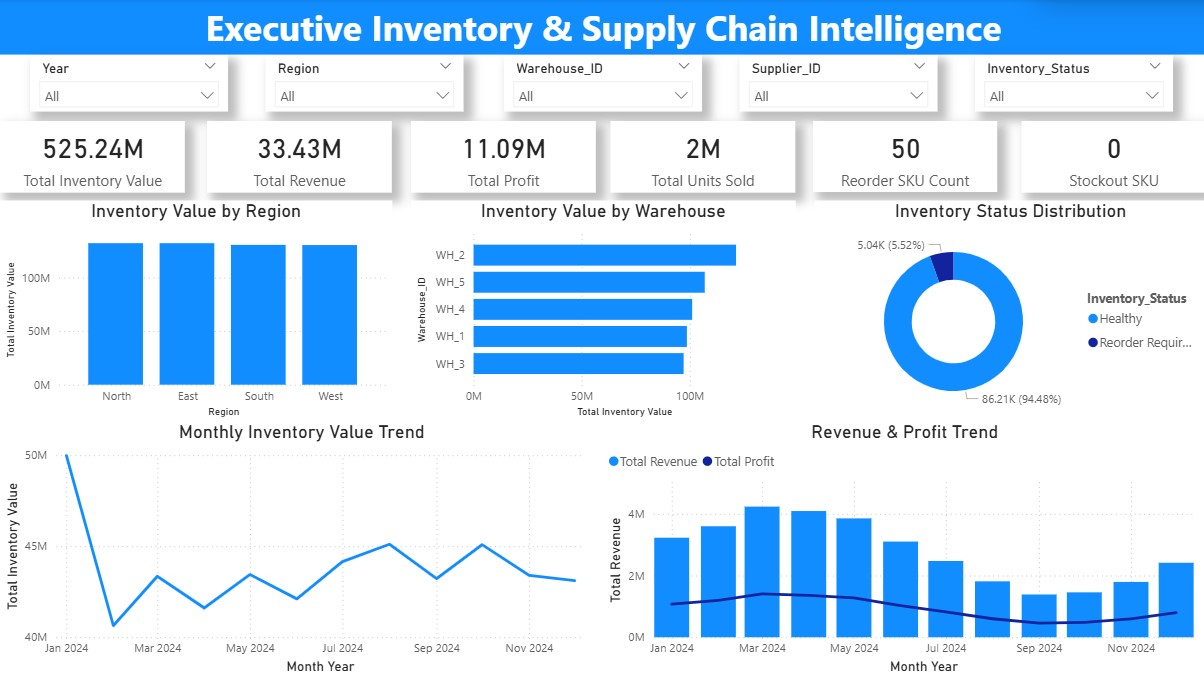

The page's visual inventory and layout, read from the dashboard file:
{"tool":"powerbi","page":{"name":"Excusive Overview ","canvas":[1280,720],"ordinal":0},"visuals":[{"type":"textbox","box":[0,0,1280,60],"z":0},{"type":"slicer","fields":{"Values":["DateTable.Year"]},"box":[32,60,210,60],"z":1000},{"type":"slicer","fields":{"Values":["InventoryData.Region"]},"box":[282,60,210,60],"z":2000},{"type":"slicer","fields":{"Values":["InventoryData.Warehouse_ID"]},"box":[534,60,210,60],"z":3000},{"type":"slicer","fields":{"Values":["InventoryData.Supplier_ID"]},"box":[784,60,210,60],"z":4000},{"type":"slicer","fields":{"Values":["InventoryData.Inventory_Status"]},"box":[1034,60,210,60],"z":5000},{"type":"card","fields":{"Values":["InventoryData.Total Inventory Value"]},"box":[0,130,196,76],"z":6000},{"type":"card","fields":{"Values":["InventoryData.Total Revenue"]},"box":[220,130,196,76],"z":7000},{"type":"card","fields":{"Values":["InventoryData.Total Profit"]},"box":[436,130,196,76],"z":8000},{"type":"card","fields":{"Values":["InventoryData.Total Units Sold"]},"box":[648,130,196,76],"z":9000},{"type":"card","fields":{"Values":["InventoryData.Reorder SKU Count"]},"box":[862,130,195,75],"z":10000},{"type":"card","fields":{"Values":["InventoryData.Stockout SKU"]},"box":[1084,130,196,76],"z":11000},{"type":"clusteredColumnChart","title":"Inventory Value by Region","fields":{"Category":["InventoryData.Region"],"Y":["InventoryData.Total Inventory Value"]},"box":[0,214,416,234],"z":12000},{"type":"barChart","title":"Inventory Value by Warehouse","fields":{"Category":["InventoryData.Warehouse_ID"],"Y":["InventoryData.Total Inventory Value"]},"box":[436,214,408,234],"z":13000},{"type":"donutChart","title":"Inventory Status Distribution","fields":{"Category":["InventoryData.Inventory_Status"],"Y":["CountNonNull(InventoryData.SKU_ID)"]},"box":[864,214,416,234],"z":14000},{"type":"lineChart","title":"Monthly Inventory Value Trend","fields":{"Category":["DateTable.Month Year"],"Y":["InventoryData.Total Inventory Value"]},"box":[0,448,640,272],"z":15000},{"type":"lineClusteredColumnComboChart","title":"Revenue & Profit Trend","fields":{"Category":["DateTable.Month Year"],"Y":["InventoryData.Total Revenue"],"Y2":["InventoryData.Total Profit"]},"box":[640,448,640,272],"z":16000}]}

Visuals, with their boxes in screenshot pixels (x1, y1, x2, y2), scaled from the page's 1280x720 canvas onto the 1204x676 screenshot:
textbox: detection(0, 0, 1203, 56)
slicer - DateTable.Year: detection(30, 56, 228, 113)
slicer - InventoryData.Region: detection(265, 56, 463, 113)
slicer - InventoryData.Warehouse_ID: detection(502, 56, 700, 113)
slicer - InventoryData.Supplier_ID: detection(737, 56, 935, 113)
slicer - InventoryData.Inventory_Status: detection(973, 56, 1170, 113)
card - InventoryData.Total Inventory Value: detection(0, 122, 184, 193)
card - InventoryData.Total Revenue: detection(207, 122, 391, 193)
card - InventoryData.Total Profit: detection(410, 122, 594, 193)
card - InventoryData.Total Units Sold: detection(610, 122, 794, 193)
card - InventoryData.Reorder SKU Count: detection(811, 122, 994, 192)
card - InventoryData.Stockout SKU: detection(1020, 122, 1203, 193)
"Inventory Value by Region" clusteredColumnChart: detection(0, 201, 391, 421)
"Inventory Value by Warehouse" barChart: detection(410, 201, 794, 421)
"Inventory Status Distribution" donutChart: detection(813, 201, 1203, 421)
"Monthly Inventory Value Trend" lineChart: detection(0, 421, 602, 675)
"Revenue & Profit Trend" lineClusteredColumnComboChart: detection(602, 421, 1203, 675)
